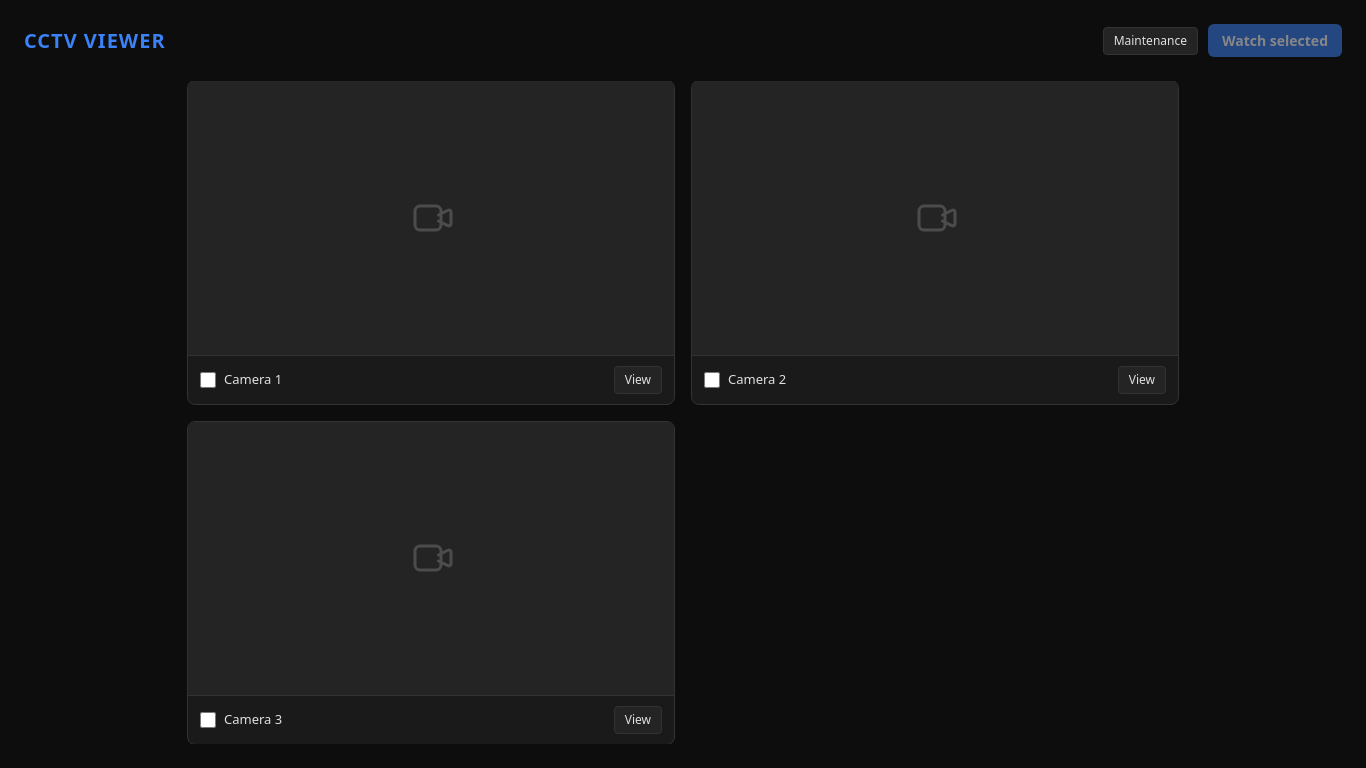
Test: CameraGrid — AC-1: multi-select › selecting one camera enables Watch and shows count
Click the checkbox named "Select for multi-camera playback" next to "Camera 1": (208, 380) [200,372,216,388]
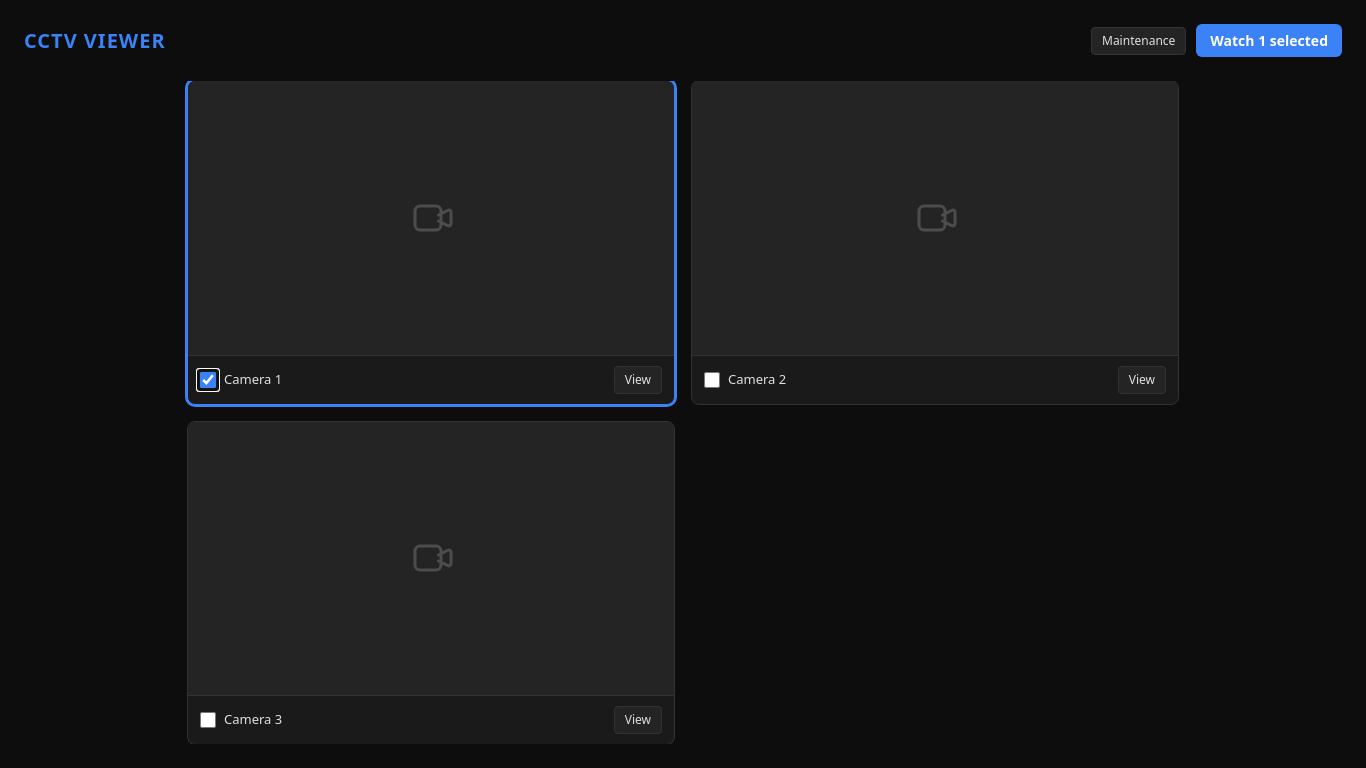
expect the button "Watch 1 selected" is enabled: met, box [1196,24,1342,57]
